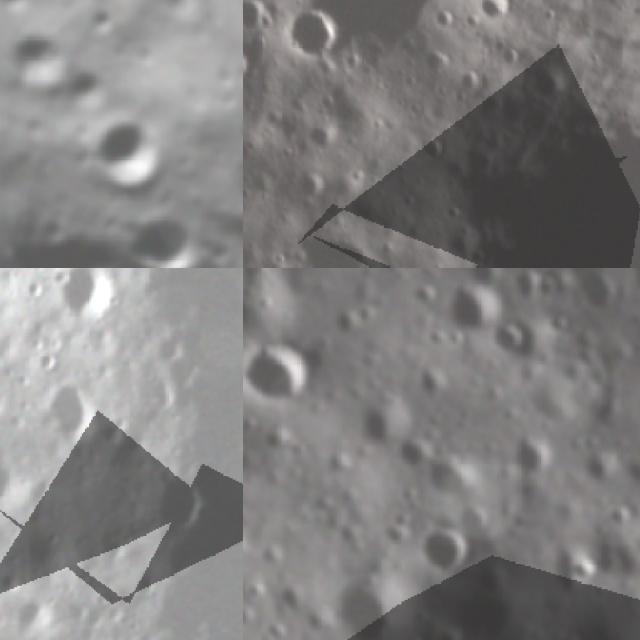crater: (438, 121, 640, 268), (70, 103, 166, 200), (294, 0, 469, 51), (0, 21, 79, 99), (334, 570, 417, 640), (243, 336, 319, 407), (121, 206, 203, 268), (37, 378, 113, 440), (147, 467, 214, 534), (442, 277, 509, 341), (417, 451, 486, 509), (351, 395, 414, 451), (412, 525, 476, 578), (54, 268, 117, 321), (302, 220, 371, 268), (288, 6, 346, 63), (504, 433, 559, 479), (576, 268, 627, 316), (574, 447, 624, 493), (490, 318, 539, 364), (0, 450, 30, 510), (529, 66, 575, 103), (304, 113, 344, 149), (15, 594, 52, 631), (564, 549, 599, 586), (296, 163, 326, 205), (243, 0, 276, 33), (131, 569, 162, 603), (473, 0, 517, 23), (243, 47, 259, 89)
